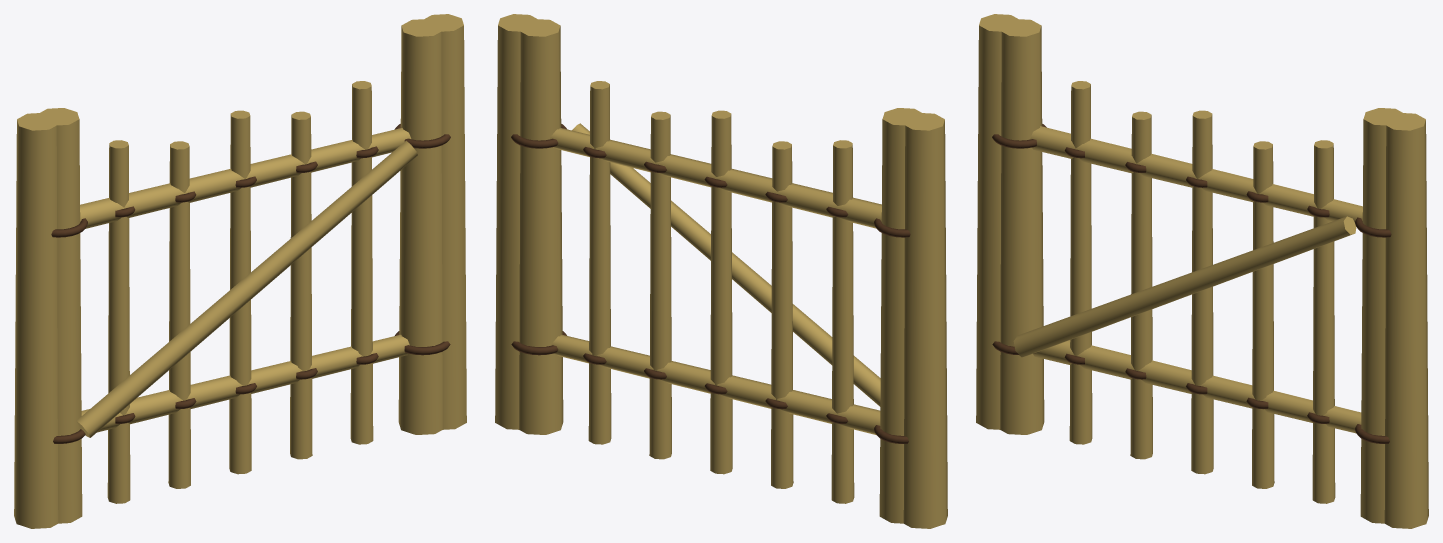
Rendered from LV_CONG_VUON_TRE_01.glb.
3 renders of one model, left to right at view 1: azimuth 30°, elevation 25°; view 2: azimuth 150°, elevation 25°; view 3: azimuth 330°, elevation 25°, orthographic.
Parts seen in each view (by area): view 1: garden-gate-hinge-surface-b59b56, LV_CONG_VUON_TRE_01-surface-b59b56, garden-gate-hinge-surface-50351f; view 2: garden-gate-hinge-surface-b59b56, LV_CONG_VUON_TRE_01-surface-b59b56, garden-gate-hinge-surface-50351f; view 3: garden-gate-hinge-surface-b59b56, LV_CONG_VUON_TRE_01-surface-b59b56, garden-gate-hinge-surface-50351f.
Part boxes in pixels (left/top/right/bottom): garden-gate-hinge-surface-b59b56: left=37, top=19, right=442, bottom=523; LV_CONG_VUON_TRE_01-surface-b59b56: left=14, top=14, right=466, bottom=528; garden-gate-hinge-surface-50351f: left=51, top=124, right=450, bottom=443; garden-gate-hinge-surface-b59b56: left=519, top=19, right=924, bottom=523; LV_CONG_VUON_TRE_01-surface-b59b56: left=495, top=14, right=947, bottom=528; garden-gate-hinge-surface-50351f: left=511, top=124, right=910, bottom=443; garden-gate-hinge-surface-b59b56: left=1000, top=19, right=1405, bottom=523; LV_CONG_VUON_TRE_01-surface-b59b56: left=976, top=14, right=1428, bottom=528; garden-gate-hinge-surface-50351f: left=992, top=124, right=1391, bottom=443.
Size of the model in its own units: 1.77 by 1.5 by 0.222.
